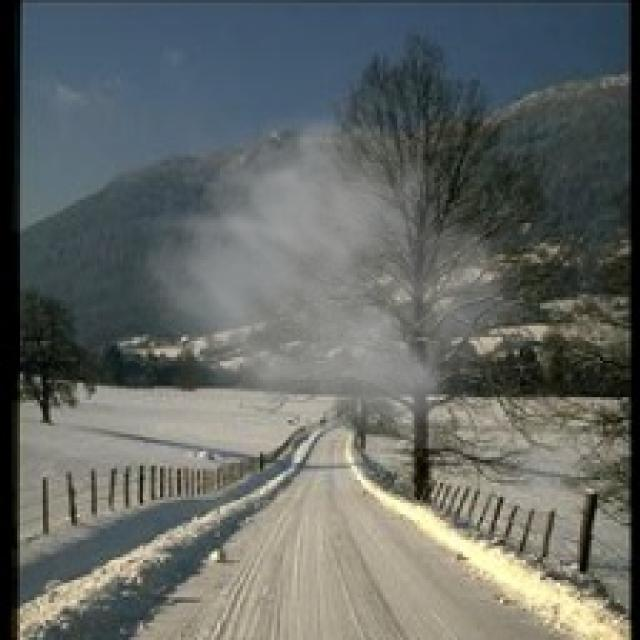Smoke: (123, 77, 543, 449)
